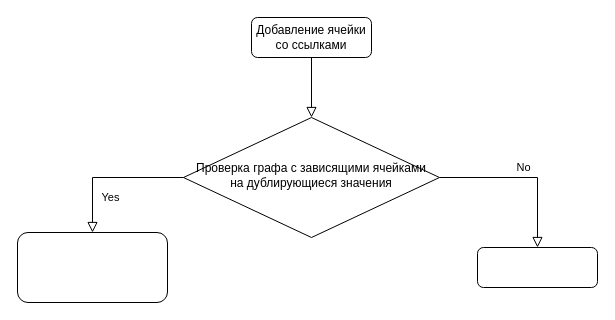
This 615x320 diagram has some shape labels left out. The shapes that lost their labels are listed below. From the top down, each one's centre as x and y in pixels, then its label:
At (92,267): "Нашли циклическую зависимость, возвращаем ошибку".
At (537,267): "циклических ссылок нет, работаем".
